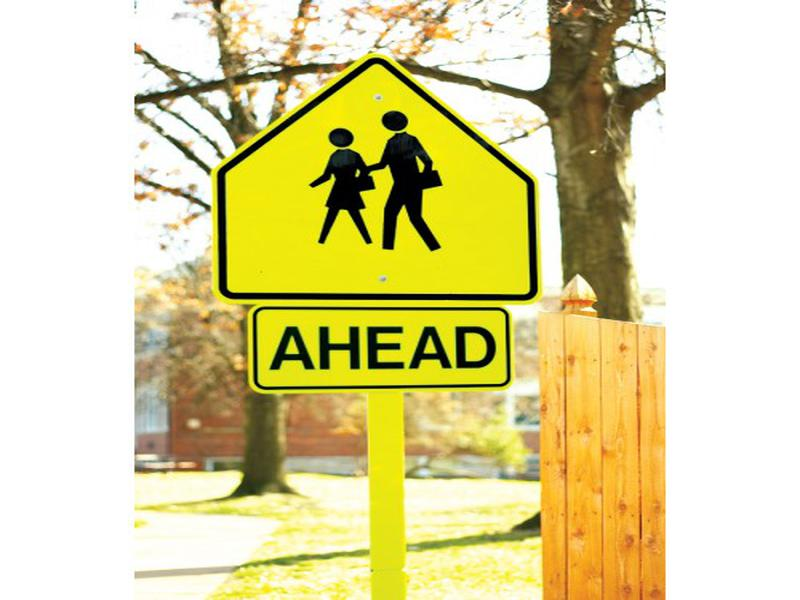slow: (214, 50, 543, 303)
